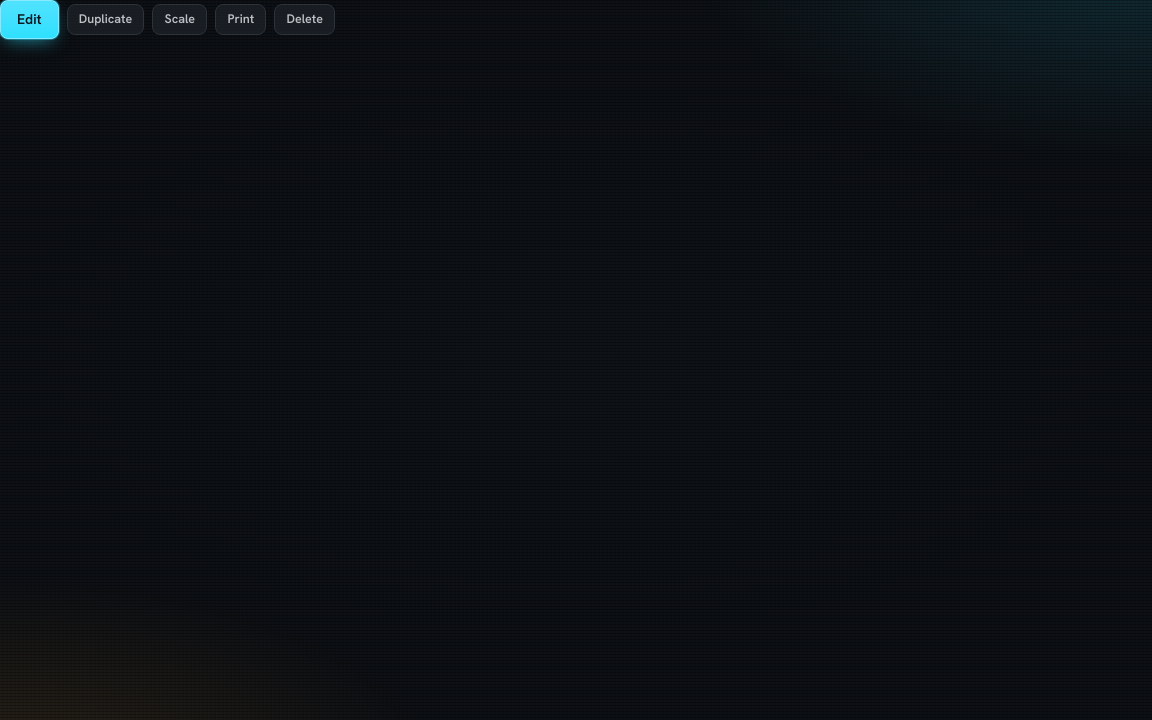
Test: RecipeActions — Scale modal › disables Apply when the input is invalid
Click the button "Scale" at (180, 19), box [152,4,207,35]
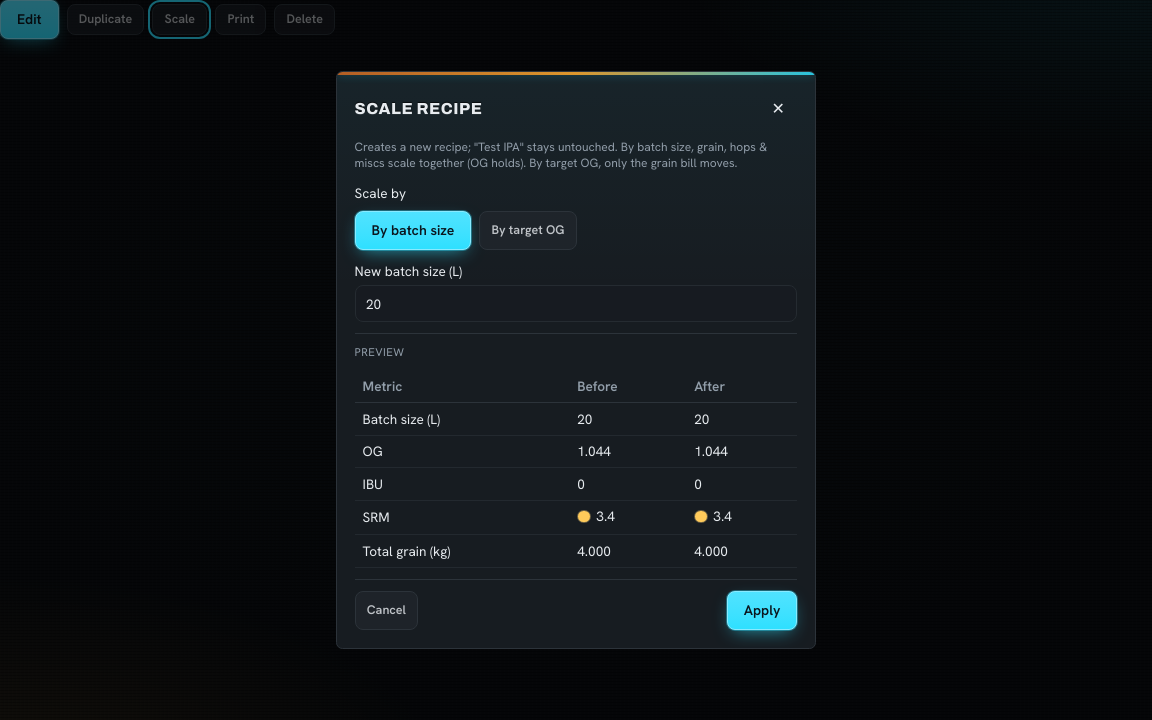
Click the button "By target OG" at (528, 230), box [479,211,577,250]
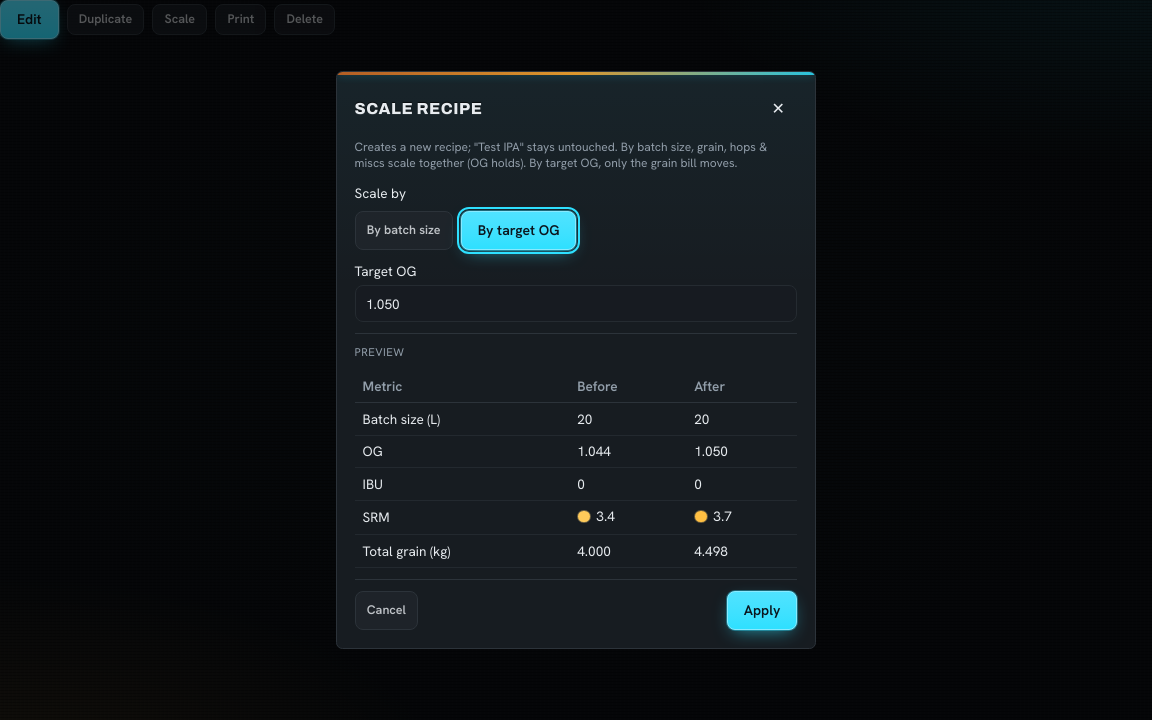
Clear the number field labelled "Target OG" at (576, 304), box [355,286,797,322]
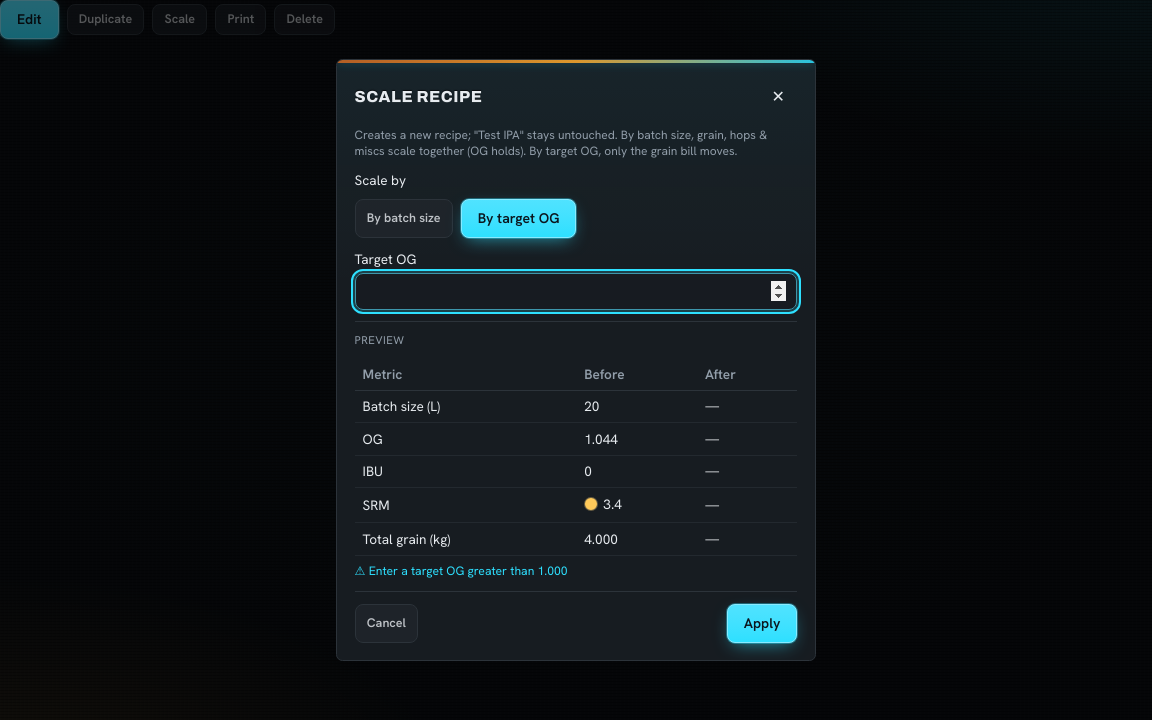
Expected: the button "Apply" is disabled, [727,604,797,642]
